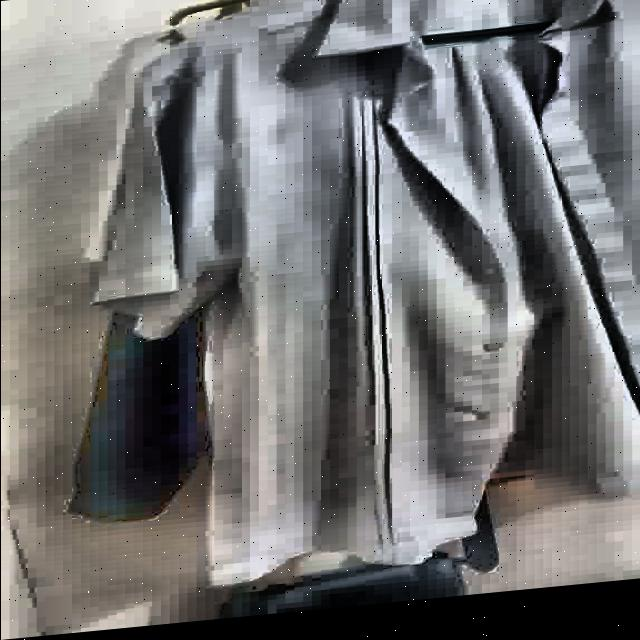clothes: (82, 0, 630, 613)
